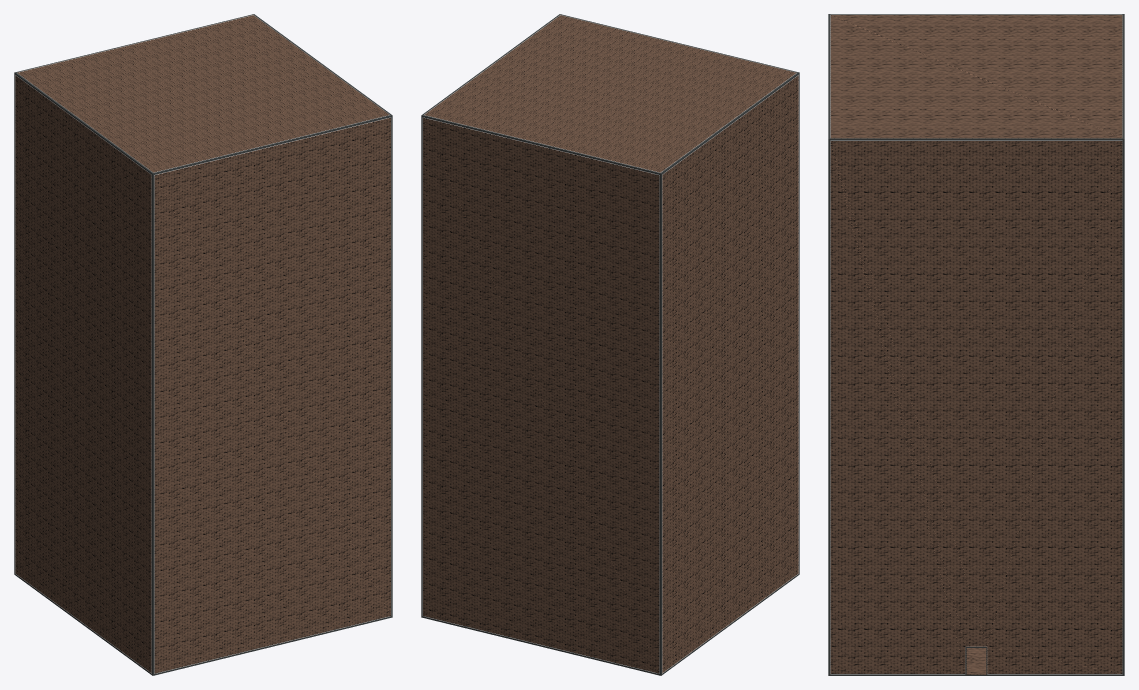
File: building_1.fbx
3 views of the same model, side by side, from view 1: azimuth 30°, elevation 25°; view 2: azimuth 150°, elevation 25°; view 3: azimuth 270°, elevation 25° (orthographic). The views are drawn at different scales.
Visible parts, largest first — view 1: building_fin; view 2: building_fin; view 3: building_fin.
Boxes of the visible parts, x1,y1,x2,y2 form: building_fin: (14, 14, 392, 675); building_fin: (421, 14, 799, 675); building_fin: (828, 14, 1124, 675).
Bounding box in the file's own units: 2823 × 5643 × 2823.
